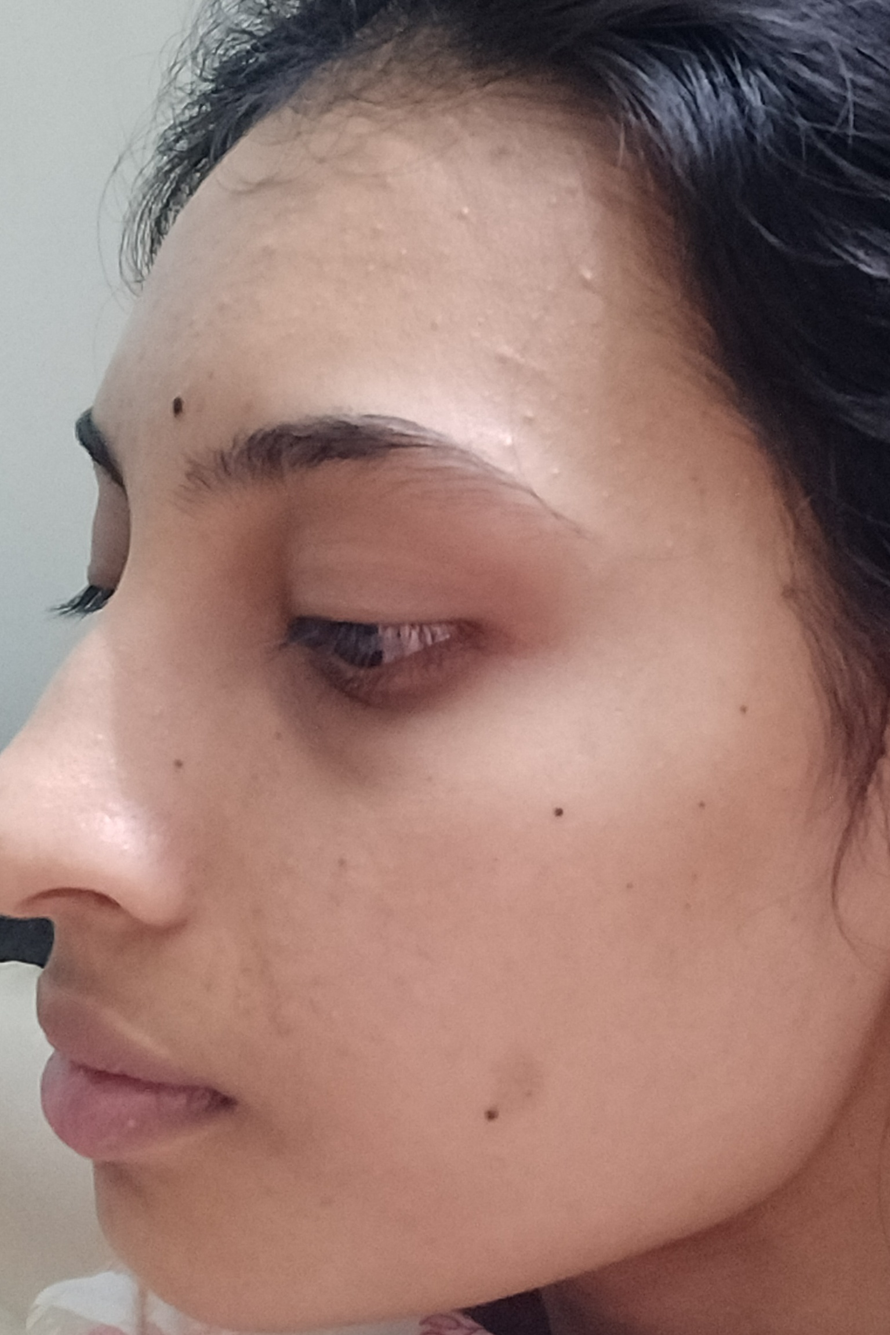closed_comedone: (482, 415, 584, 486), (493, 323, 579, 402), (551, 250, 639, 314)
